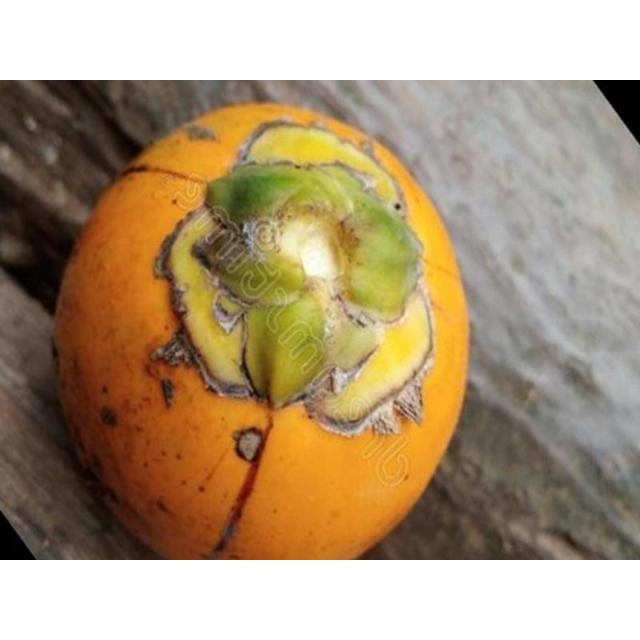good: (50, 101, 473, 559)
